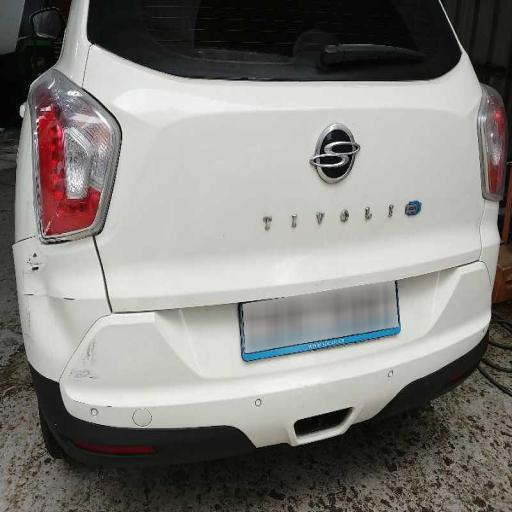scratch: (11, 225, 79, 335)
